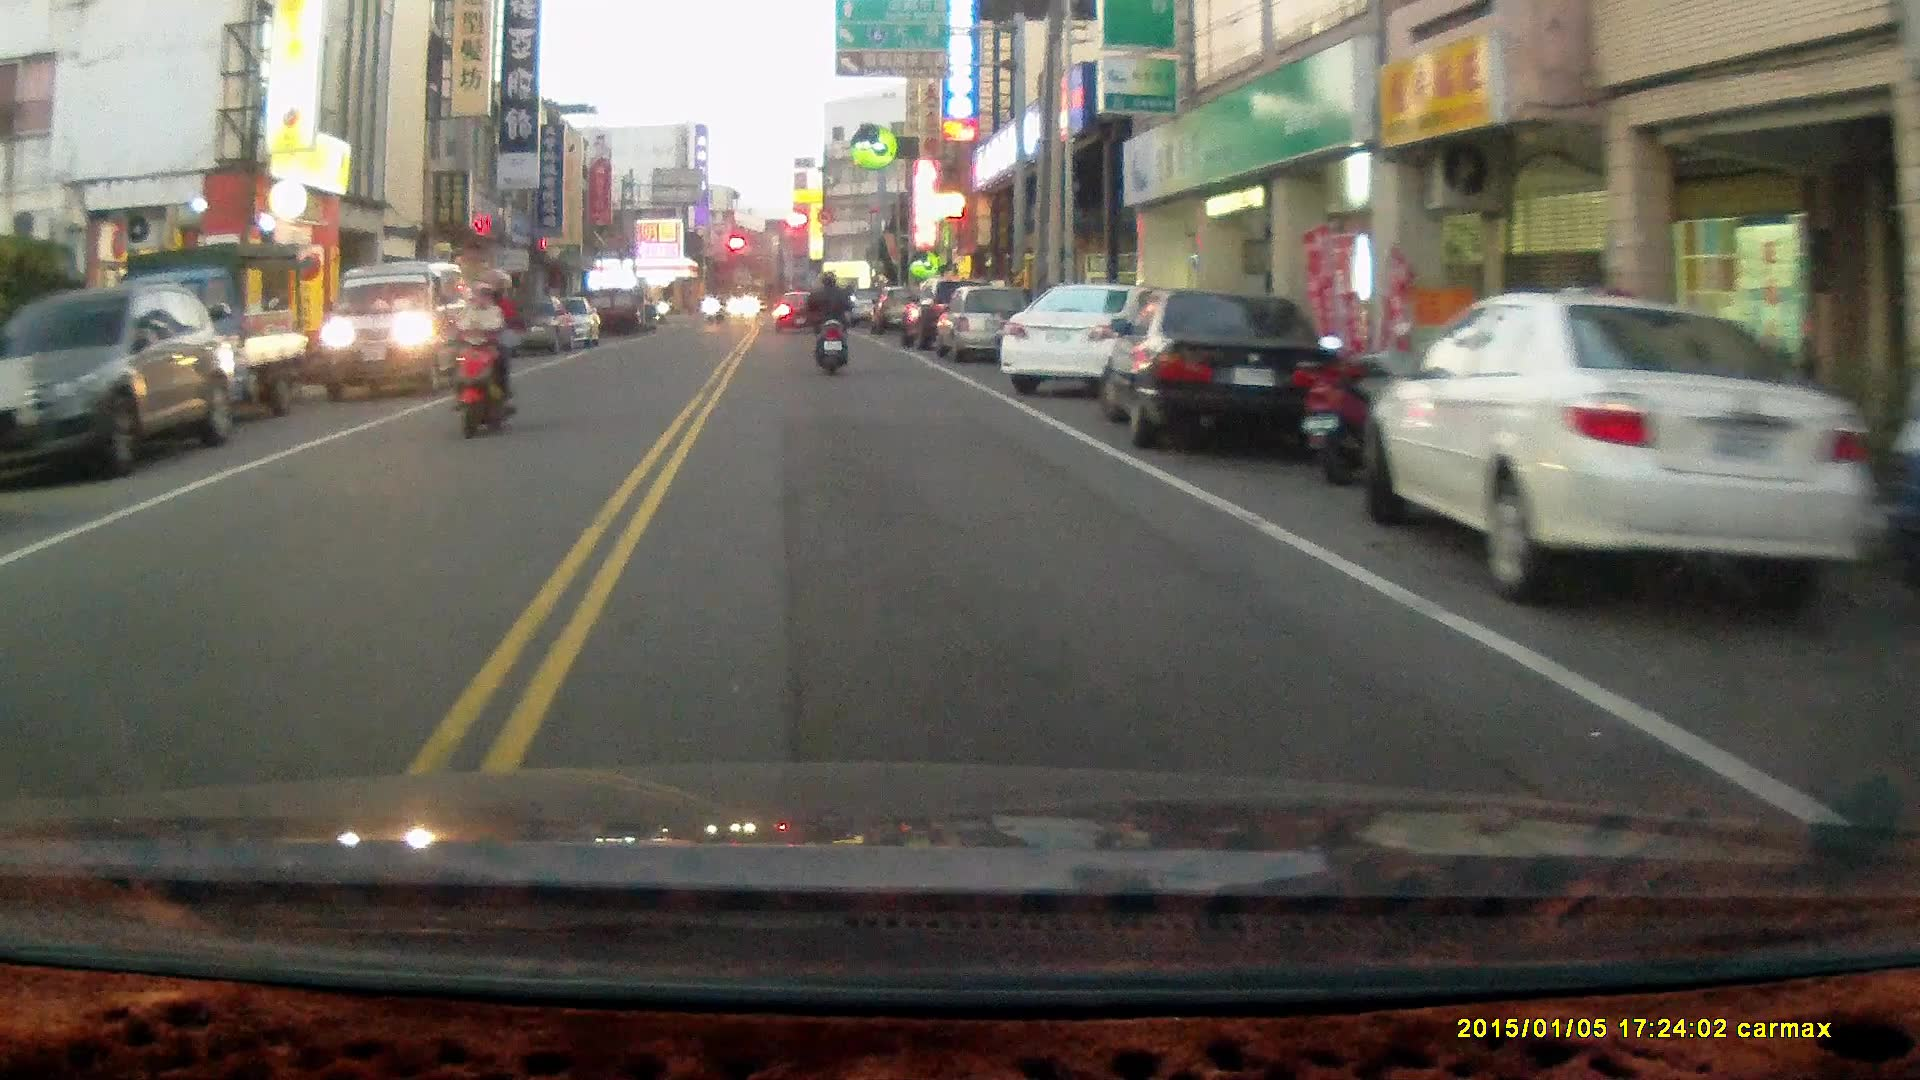rider: (448, 264, 515, 440), (805, 270, 851, 382)
vehicle: (1367, 292, 1886, 606), (4, 281, 230, 492), (1098, 290, 1337, 458), (90, 248, 308, 429), (997, 284, 1182, 400), (321, 259, 467, 396), (931, 282, 1038, 366)
